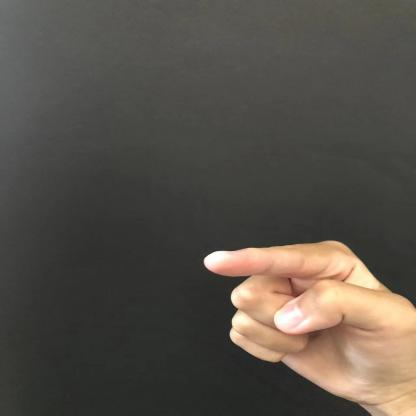finger_point: (155, 202, 365, 286)
